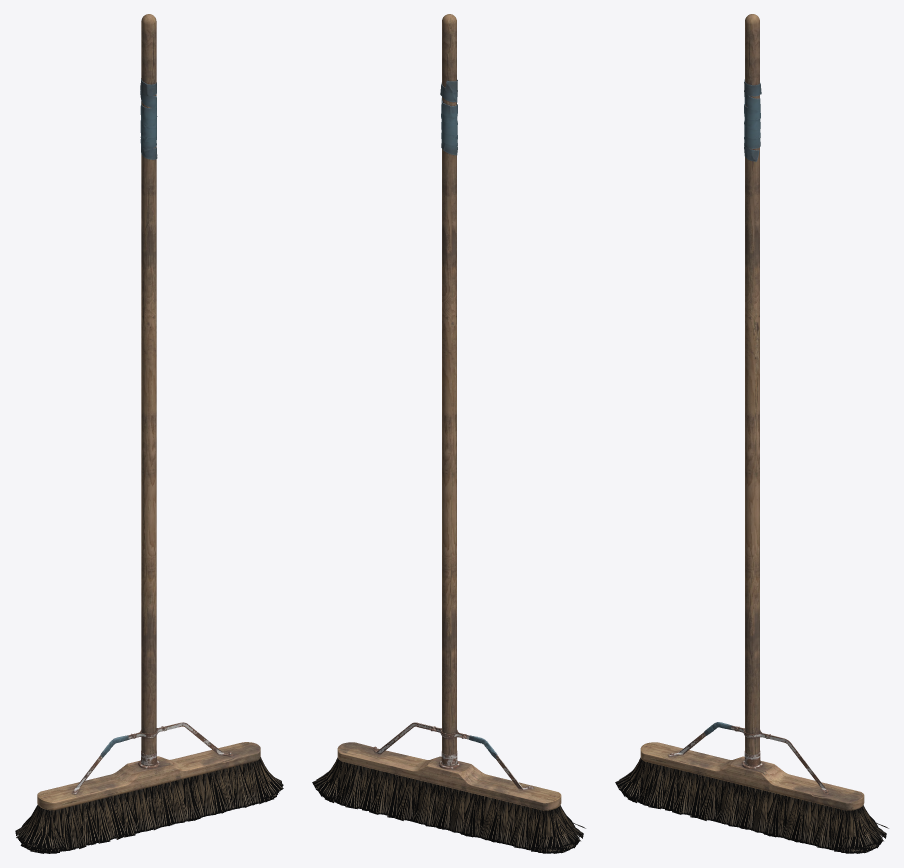
Rendered from wooden_broom.glb.
3 renders of one model, left to right at view 1: azimuth 30°, elevation 25°; view 2: azimuth 150°, elevation 25°; view 3: azimuth 330°, elevation 25°, orthographic.
Visible parts, largest first — view 1: wooden_broom_handle, wooden_broom_bristles; view 2: wooden_broom_handle, wooden_broom_bristles; view 3: wooden_broom_handle, wooden_broom_bristles.
Boxes of the visible parts, x1=… form: wooden_broom_handle: x1=37, y1=14, x2=260, y2=810; wooden_broom_bristles: x1=15, y1=757, x2=283, y2=853; wooden_broom_handle: x1=337, y1=14, x2=561, y2=810; wooden_broom_bristles: x1=312, y1=757, x2=585, y2=853; wooden_broom_handle: x1=640, y1=14, x2=864, y2=810; wooden_broom_bristles: x1=615, y1=757, x2=888, y2=853.
Bounding box in the file's own units: 0.4902 × 1.45 × 0.1125.
2 materials, 2 textured.
